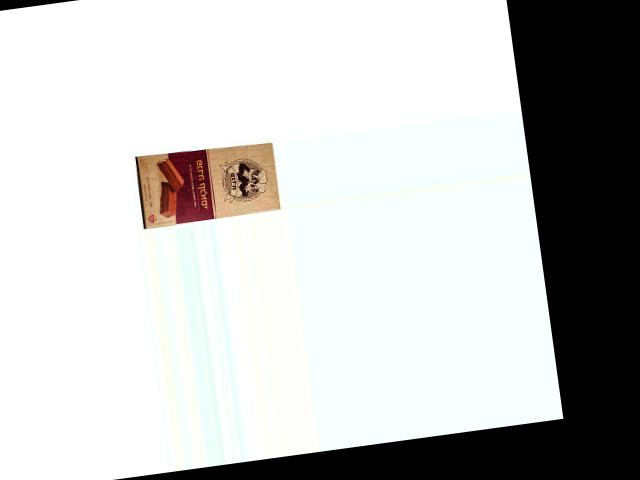chocolate: (133, 136, 281, 227)
